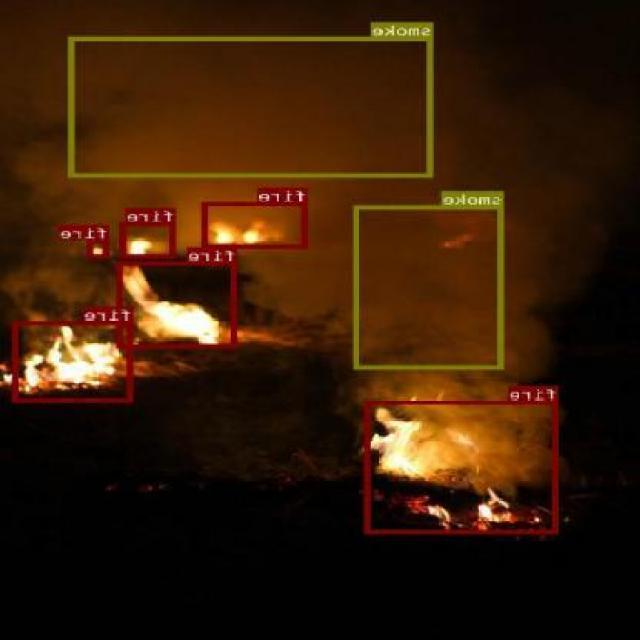Fire: (366, 399, 560, 533), (119, 261, 238, 347), (14, 320, 134, 402), (204, 202, 308, 248), (121, 221, 177, 257), (89, 238, 111, 257)
Smoke: (70, 35, 435, 177), (354, 205, 506, 368)
